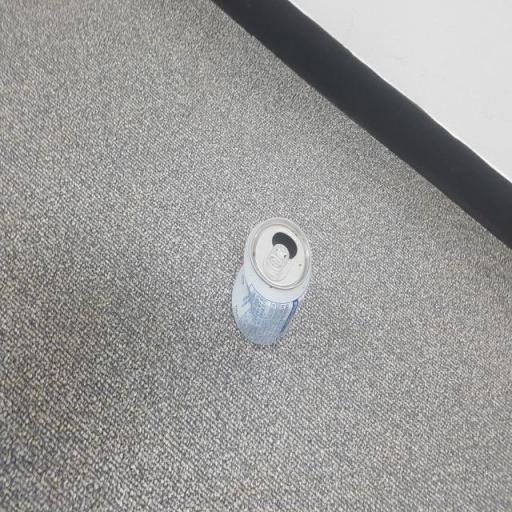metal: (215, 200, 327, 362)
